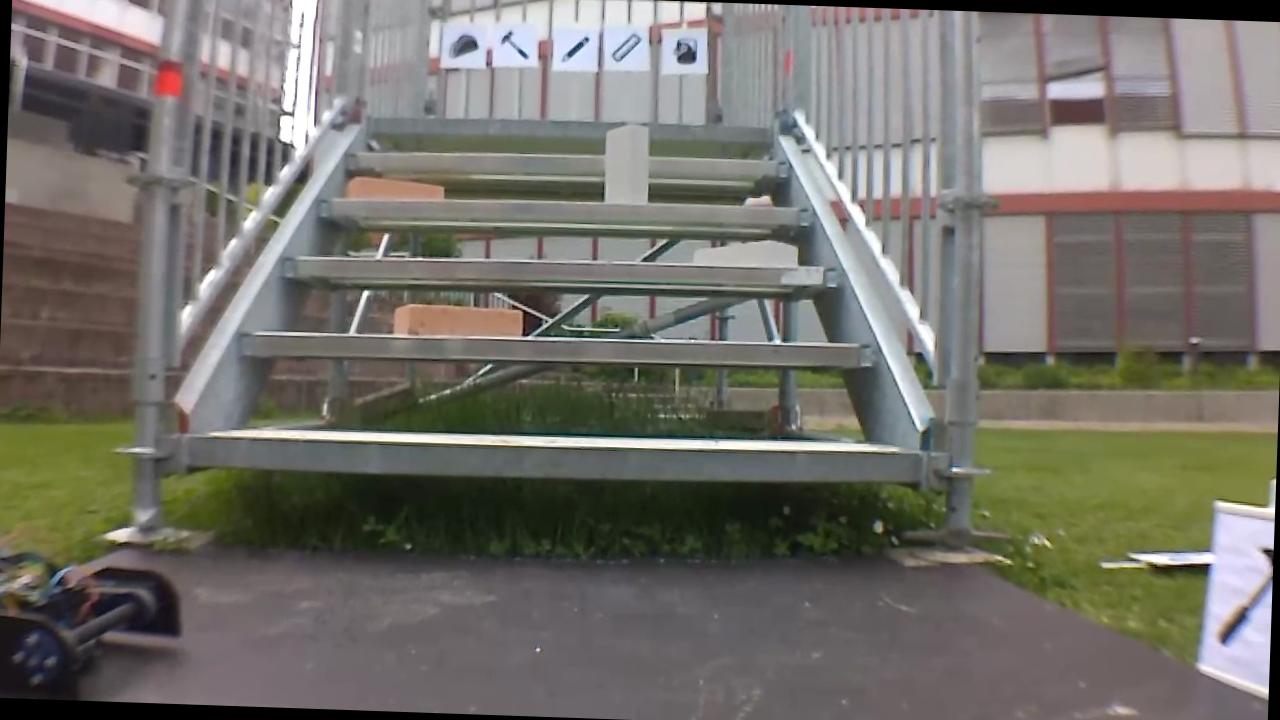brick: (393, 302, 522, 337), (602, 123, 649, 203), (695, 238, 797, 266), (347, 176, 443, 200)
bucket: (667, 31, 700, 66)
edge: (186, 427, 909, 487), (240, 323, 873, 371), (281, 247, 844, 293), (315, 190, 814, 228), (347, 146, 790, 181), (364, 113, 773, 144)
hammer: (493, 26, 536, 62)
pencil: (554, 29, 591, 68)
ruler: (605, 28, 646, 69)
steps: (177, 98, 935, 494)
taco: (445, 30, 483, 63)
